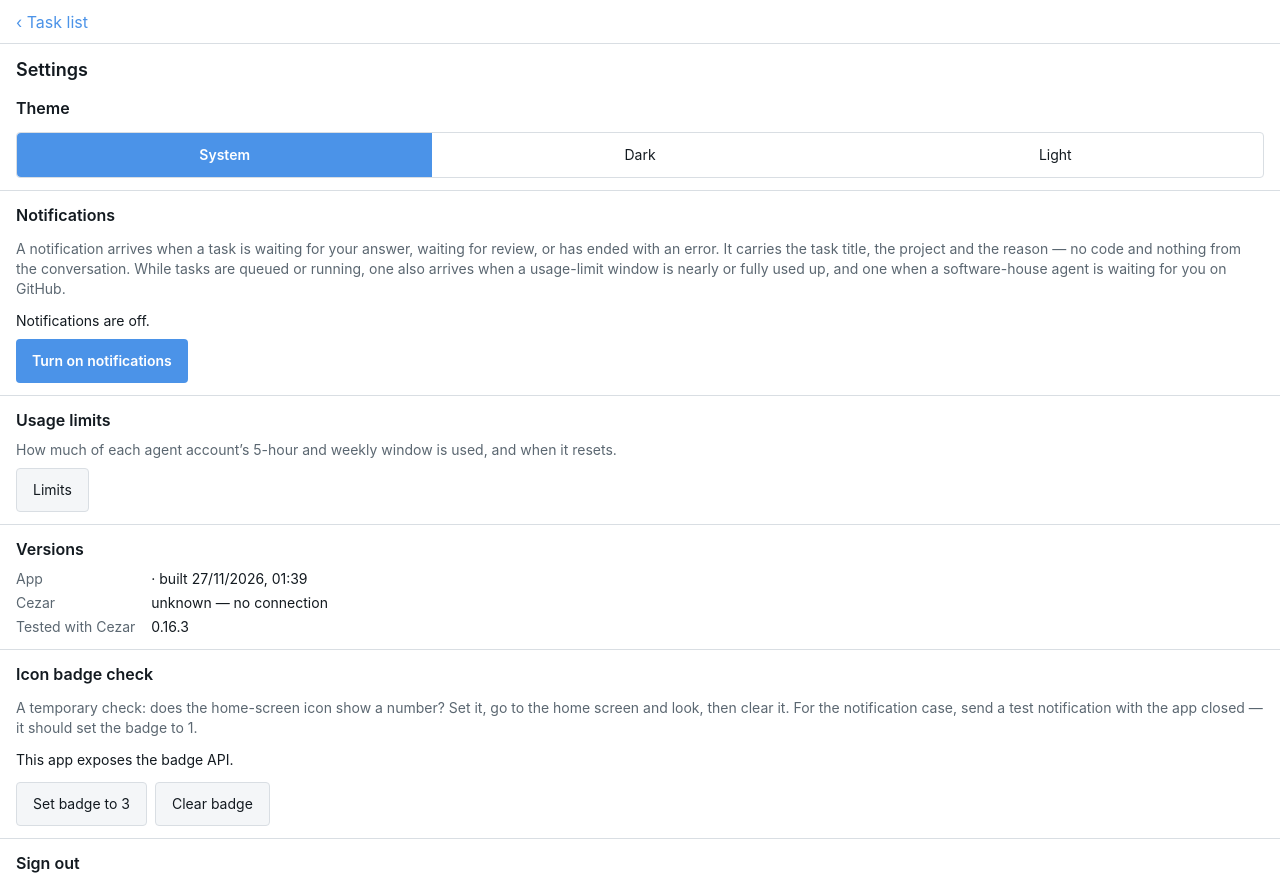
Settings → Notifications › a dismissed prompt subscribes nothing and says why
The image size is (1280, 886).
Click the button "Turn on notifications" at (102, 361), box [16,339,188,383]
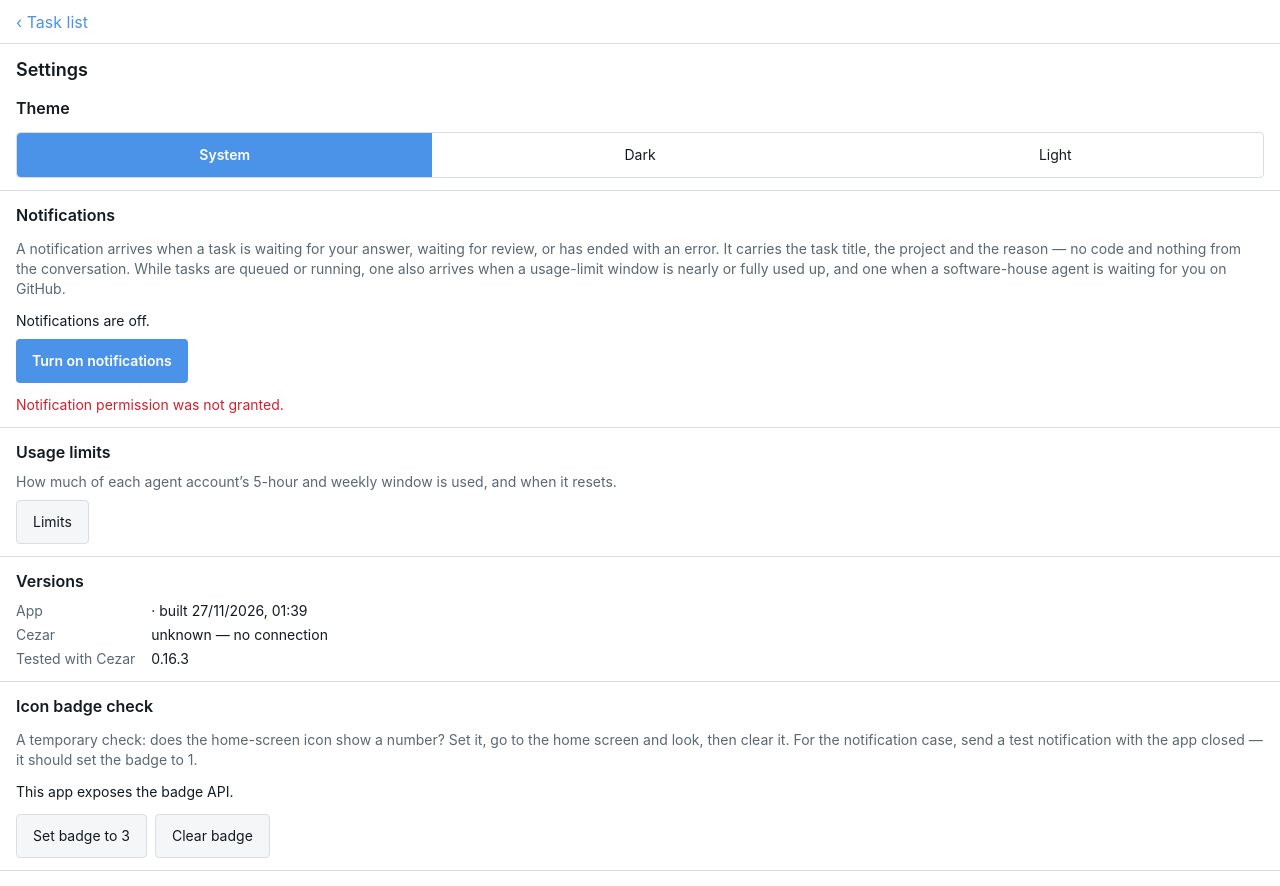
Expected: the message shows "Notification permission was not granted", [16,396,284,413]
